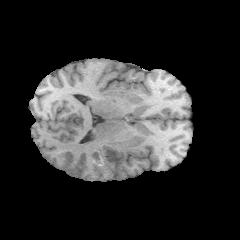glioma: (63, 137, 132, 168)
